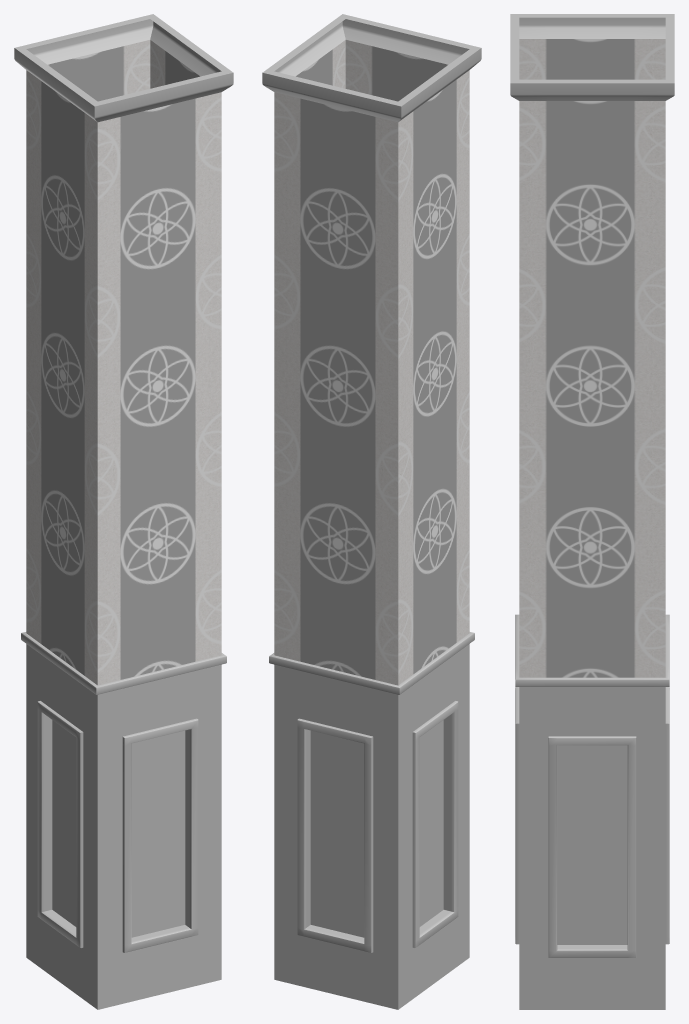
The model's file is WallNiche03_Column50x50cm.FBX.
3 views of the same model, side by side, from view 1: azimuth 30°, elevation 25°; view 2: azimuth 150°, elevation 25°; view 3: azimuth 270°, elevation 25° (orthographic). The views are drawn at different scales.
Visible parts, largest first — view 1: WallNiche03_Column50x50cm; view 2: WallNiche03_Column50x50cm; view 3: WallNiche03_Column50x50cm.
Part boxes in pixels (x1,y1,x2,y2): WallNiche03_Column50x50cm: (14, 14, 233, 1009); WallNiche03_Column50x50cm: (262, 14, 481, 1009); WallNiche03_Column50x50cm: (510, 14, 674, 1009).
Size of the model in its own units: 560 by 3500 by 560.
